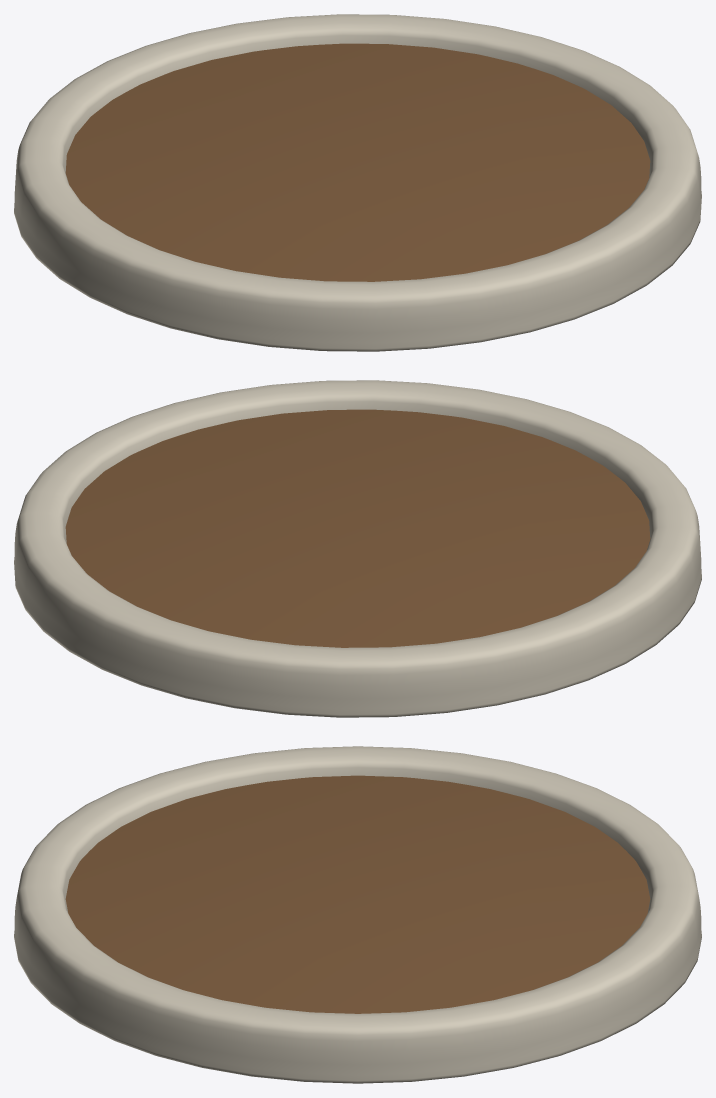
File: planter_large.glb
The picture shows the model from 3 angles, top to bottom: view 1: azimuth 30°, elevation 25°; view 2: azimuth 150°, elevation 25°; view 3: azimuth 270°, elevation 25°; orthographic projection.
Parts seen in each view (by area): view 1: planter_large; view 2: planter_large; view 3: planter_large.
Part boxes in pixels (<box>): planter_large: <box>14,14,701,351</box>; planter_large: <box>14,380,701,717</box>; planter_large: <box>14,746,701,1083</box>.
Size of the model in its own units: 6.09 by 0.5474 by 6.09.
